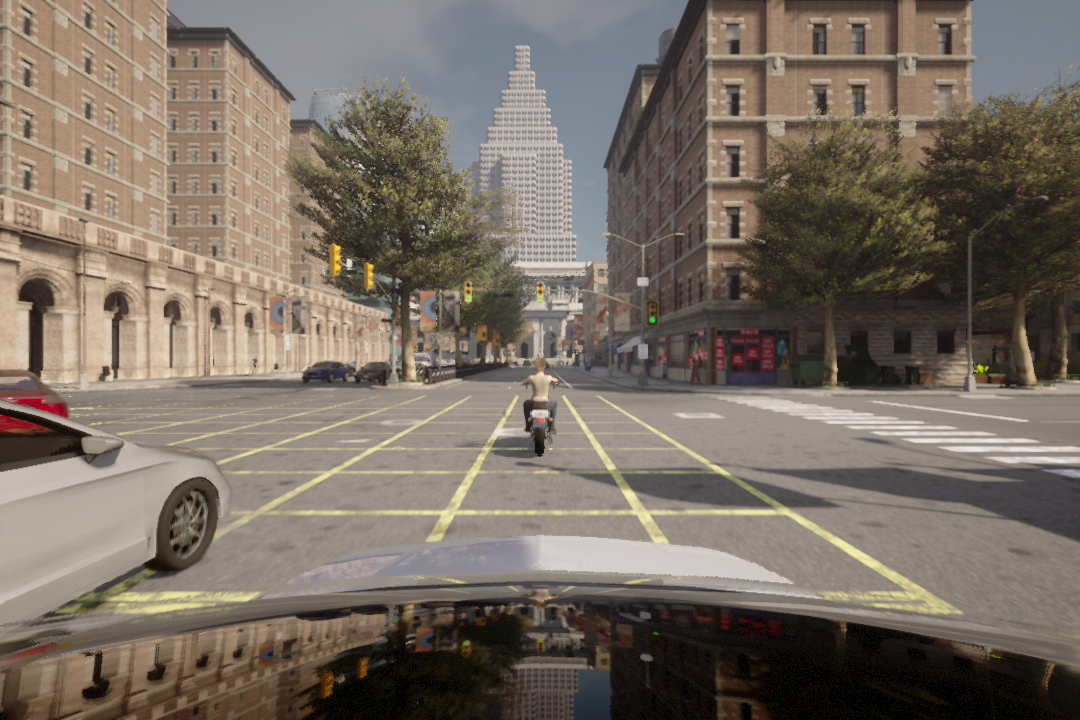TrafficLight: (645, 300, 661, 326), (536, 279, 547, 303), (463, 281, 471, 304)
walkside: (705, 385, 1080, 489)
